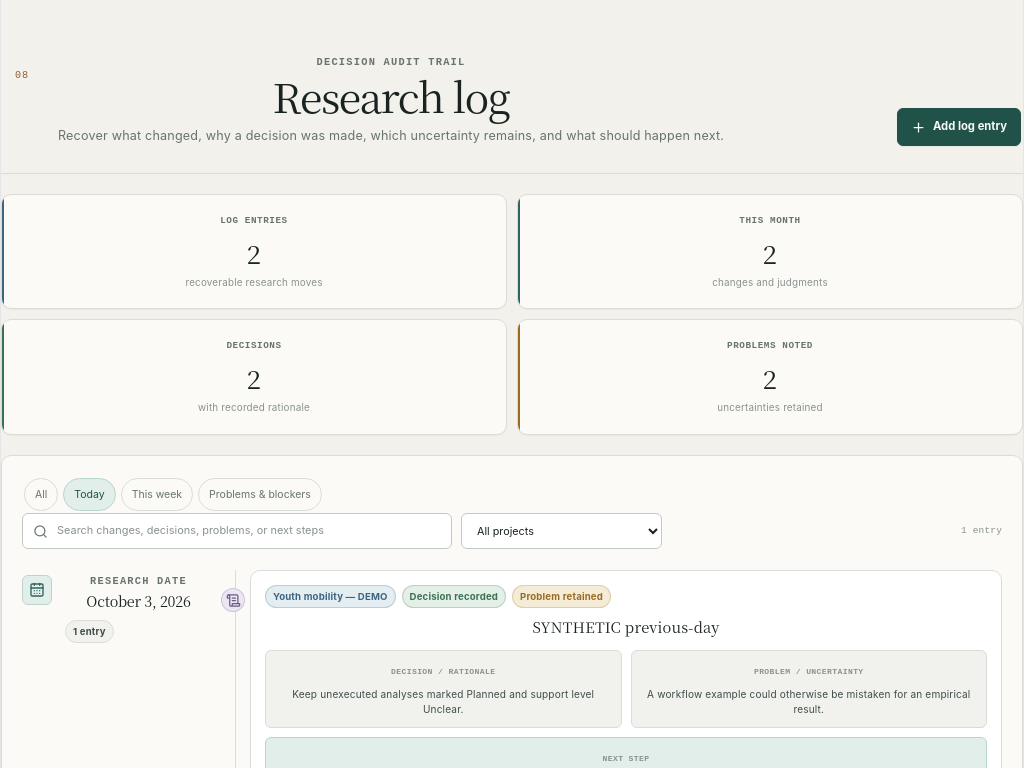
Test: research log local calendar views › refreshes Today at midnight while keeping a manual unsaved date and all research text
Expected: the heading "SYNTHETIC previous-day" is shown, [532,616,720,637]
Expected: the text "SYNTHETIC new-day" is not shown
Click the button "Add log entry" at (959, 127), box [897,108,1021,146]
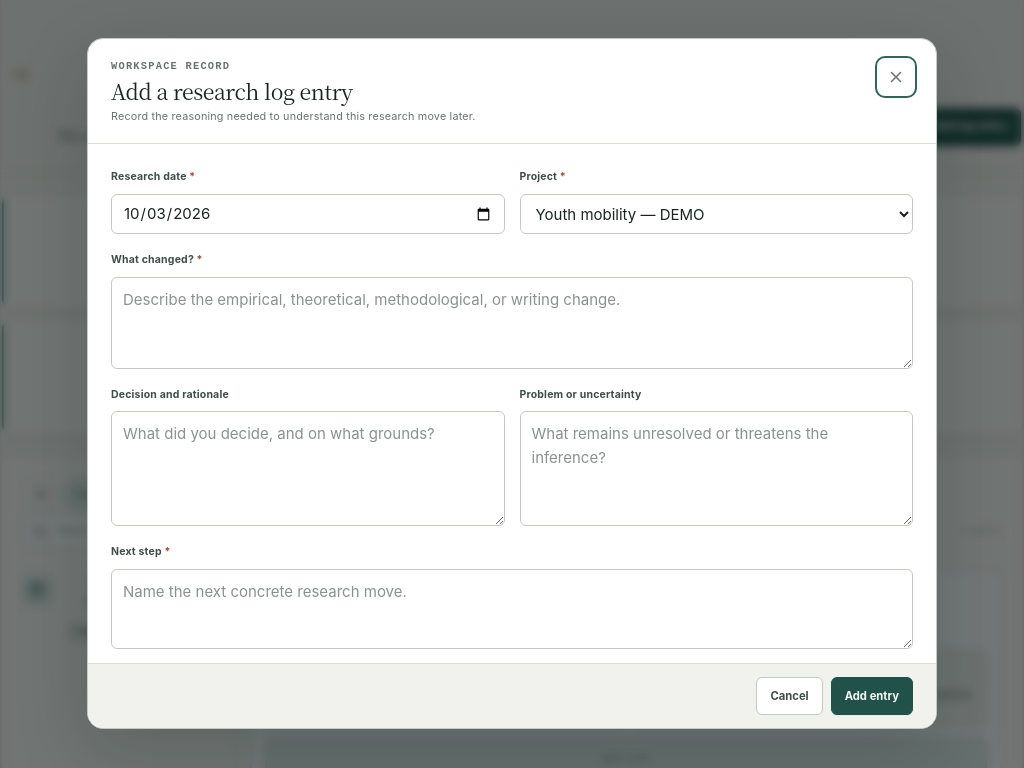
Result: the date field labelled "Research date *" holds "2026-10-03"
Type "2026-09-30" into the date field labelled "Research date *" at (308, 214), box [111,194,504,234]
Replace the text in the text box labelled "What changed? *" with "SYNTHETIC untouched progress" at (512, 323), box [111,277,913,369]
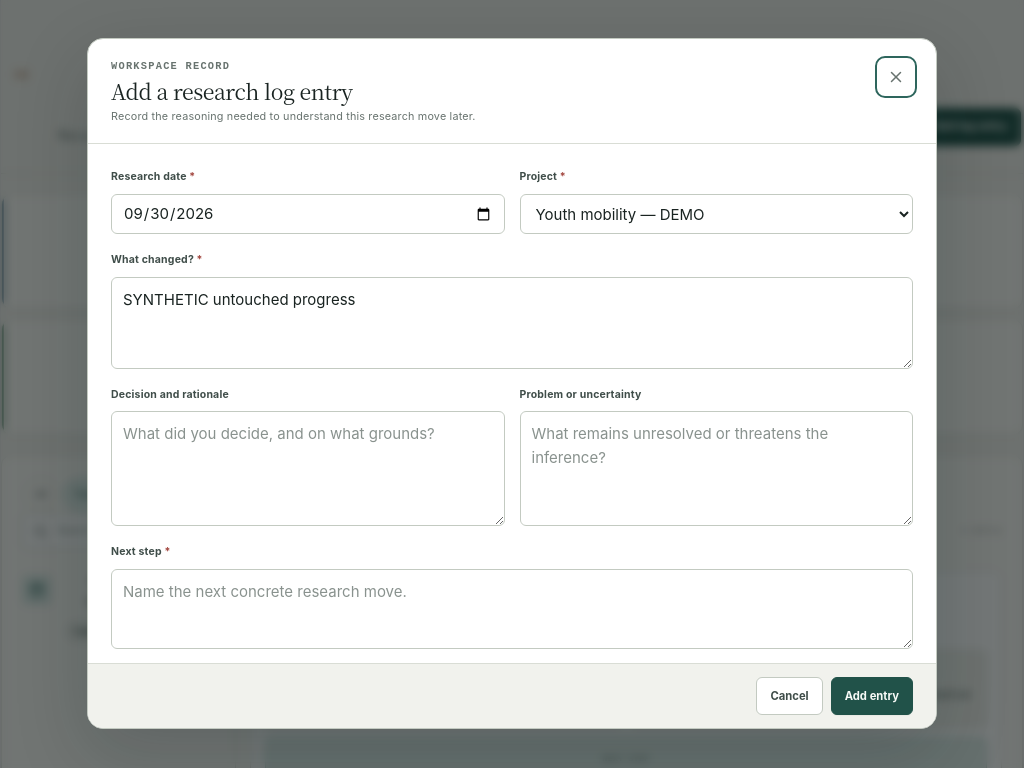
Type "SYNTHETIC untouched reasoning" into the text box labelled "Decision and rationale" at (308, 469), box [111,412,504,527]
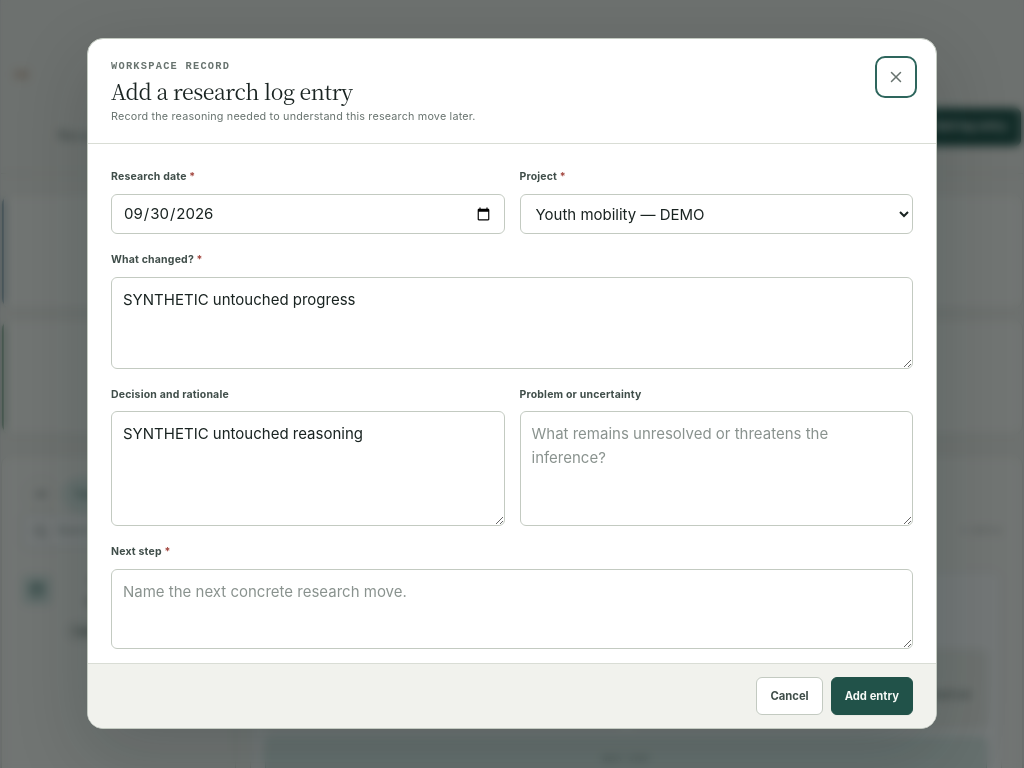
Type "SYNTHETIC untouched next step" into the text box labelled "Next step *" at (512, 609), box [111,569,913,649]
Wait 2000 ms
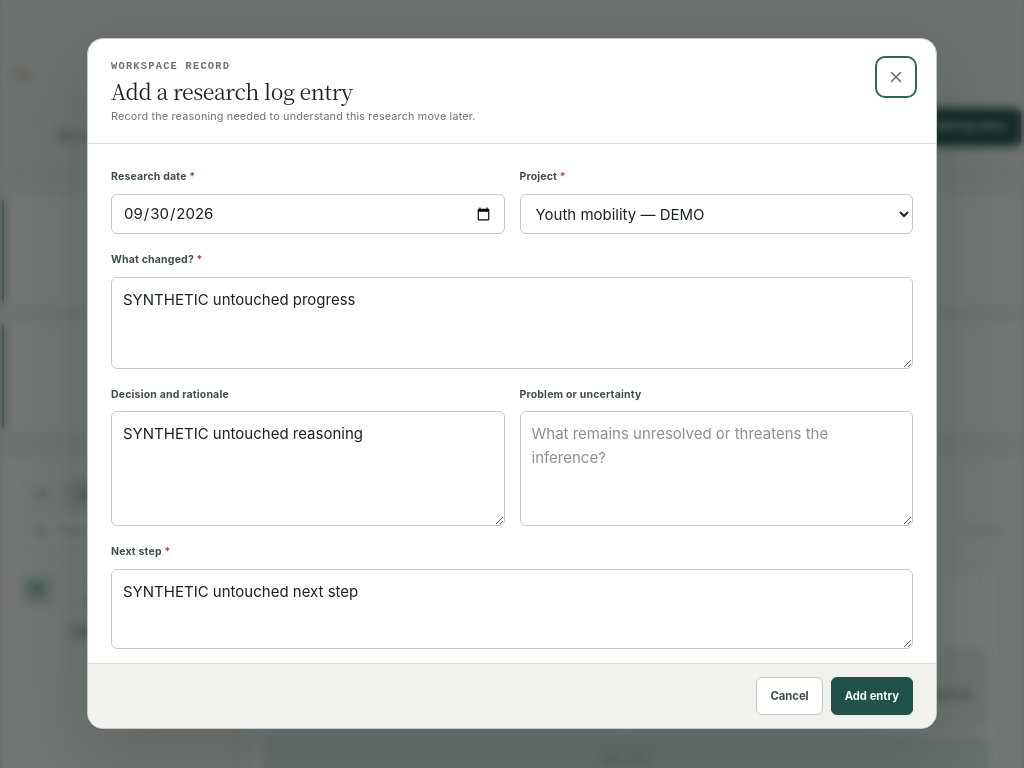
Expected: the heading "SYNTHETIC previous-day" is not shown
Submit the form with id "research-log-form", box [111,167,913,650]
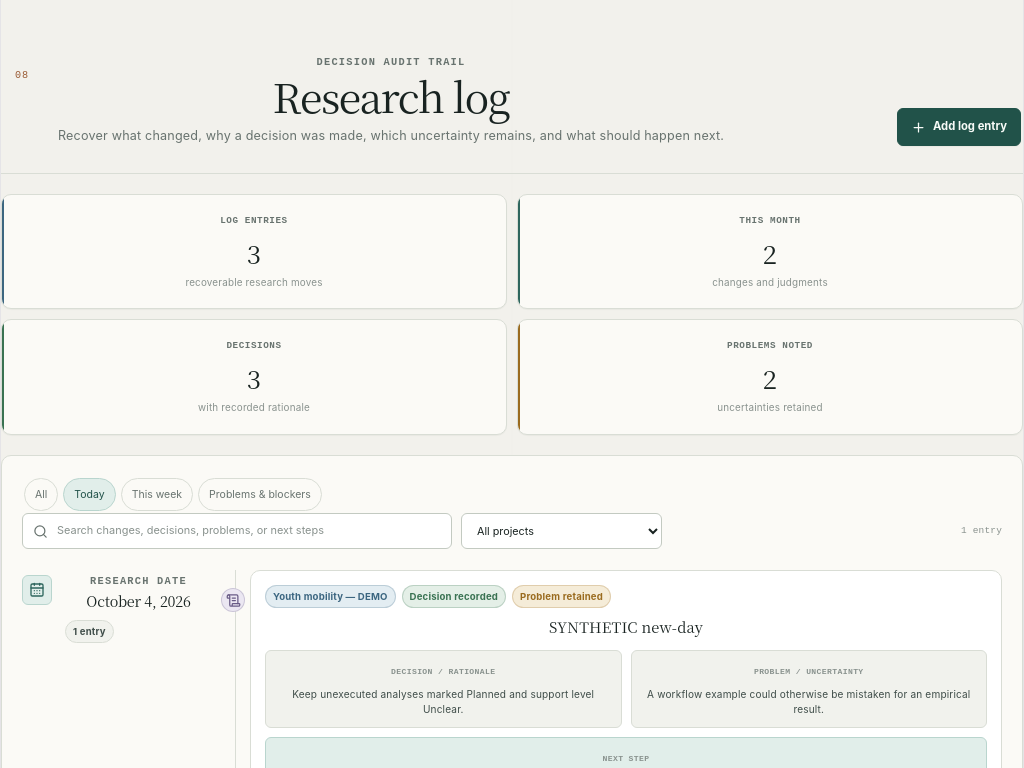
Click the button "Add log entry" at (959, 127), box [897,108,1021,146]
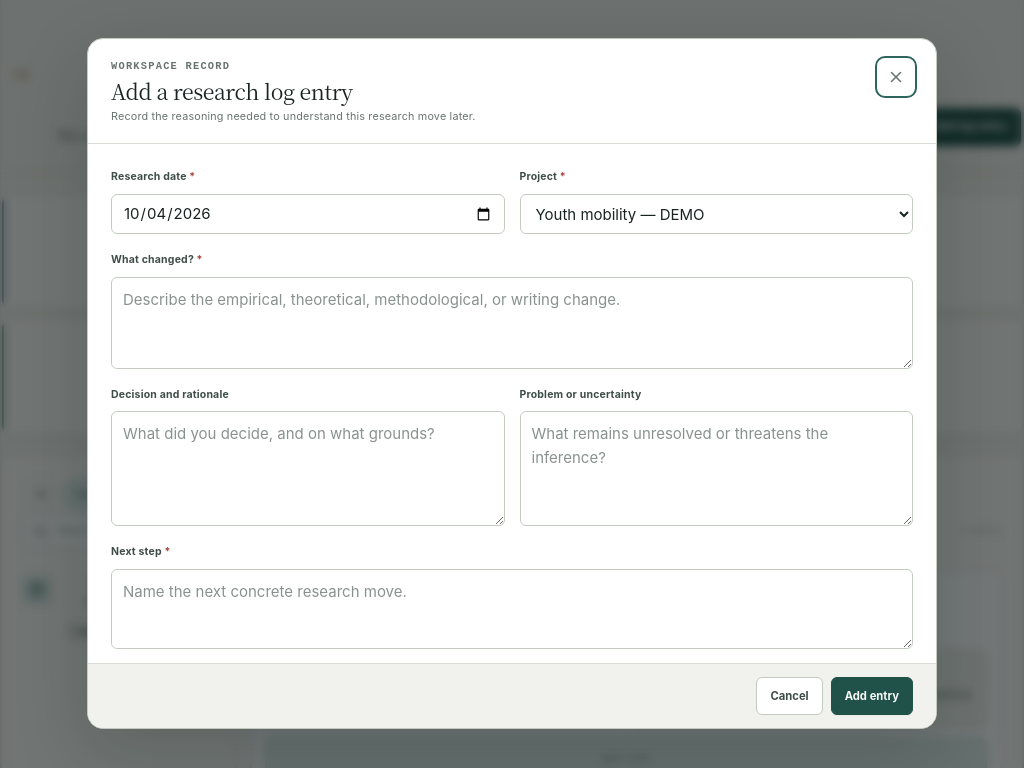
Result: the date field labelled "Research date *" holds "2026-10-04" at [111,194,504,234]
